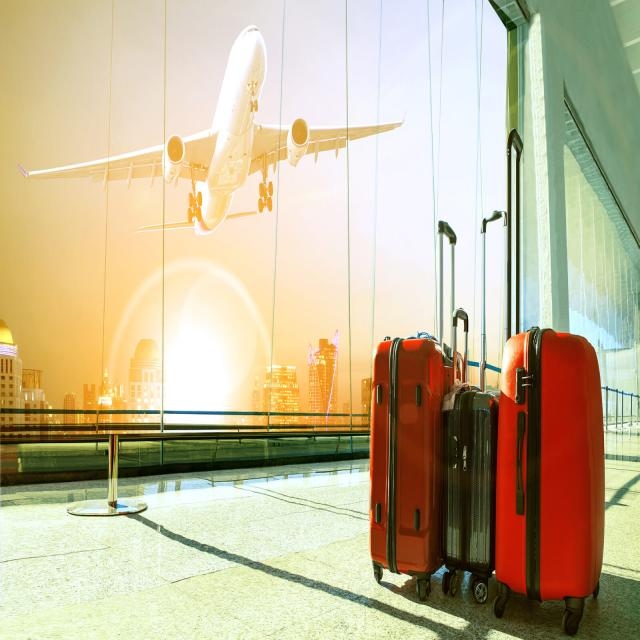plain: (27, 11, 405, 250)
